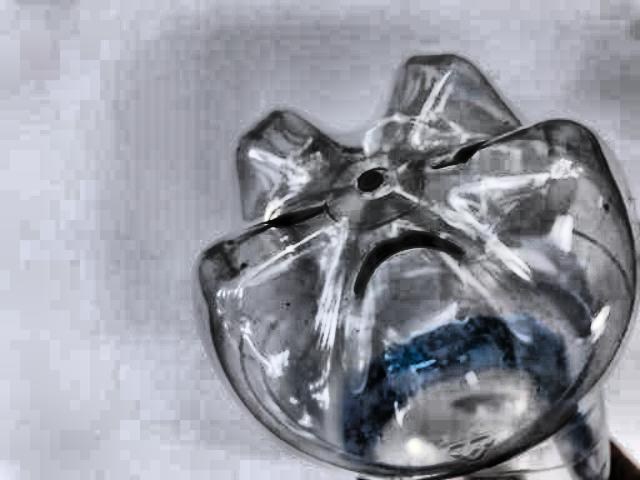Bottles: (184, 39, 640, 480)
